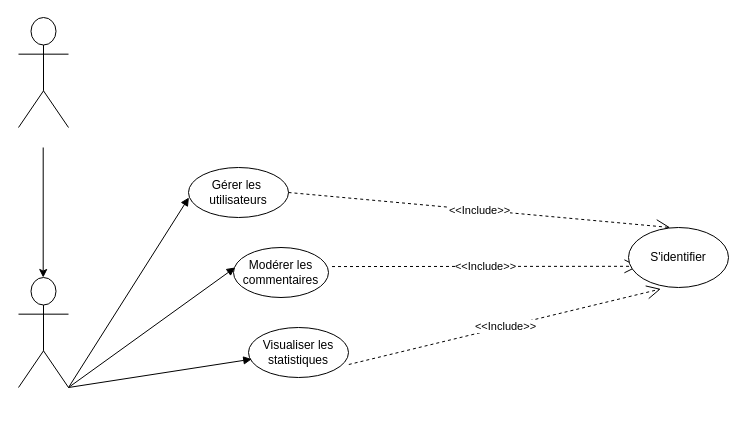
Some shapes in this 746 by 441 pixel diagram are drawn without their labels. The shapes that lost their labels are listed below. From the top down, each one's centre as x and y in pixels, then its label:
At [43,72]: "Utilisateur".
At [43,332]: "Admin".
